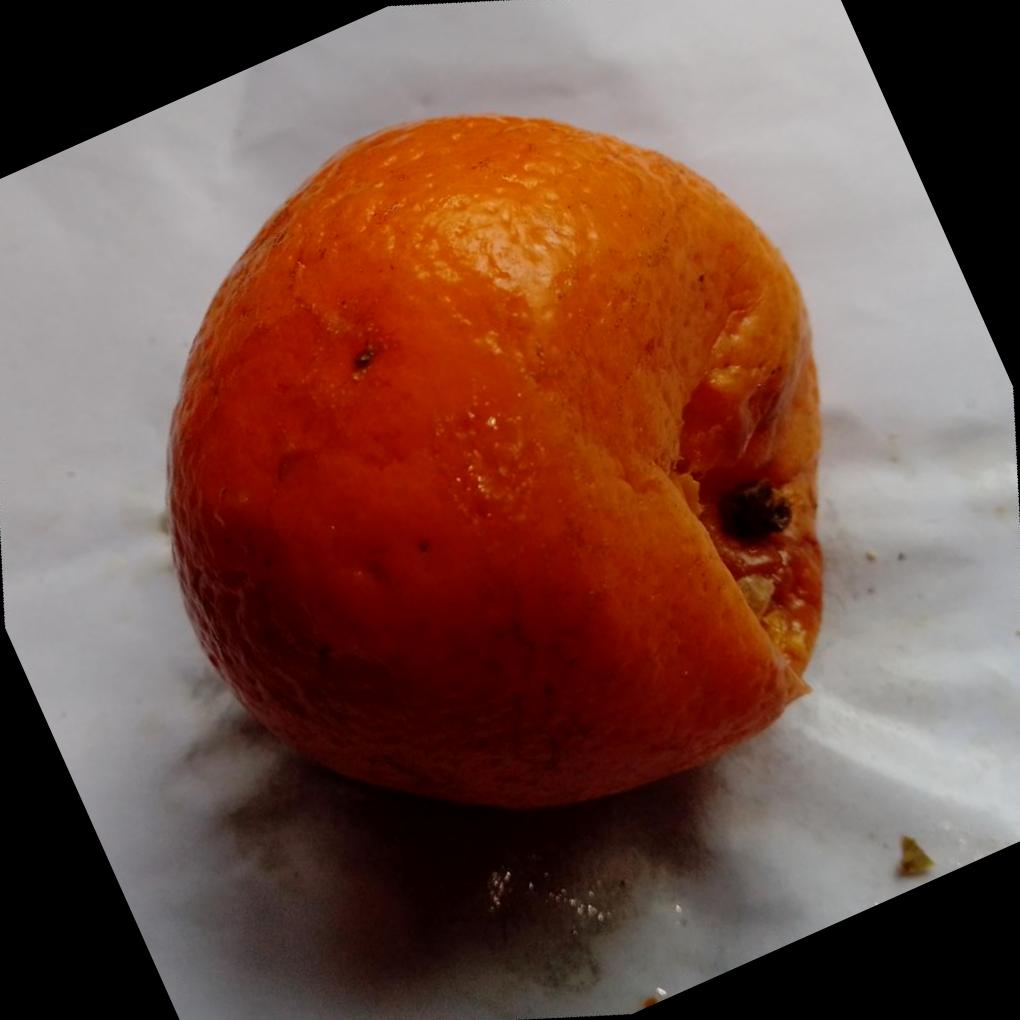FreshOrange: (158, 115, 825, 814)
